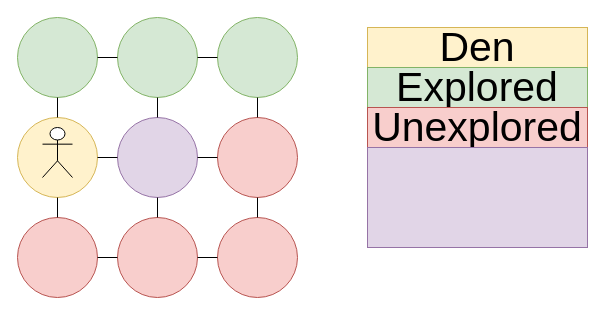
Some shapes in this 605 by 315 pixel diagram are drawn without their labels. The centre of each missing label's shape, as x and y in pixels:
Actor: the point at 57,152
Obstacle (found): the point at 477,197
